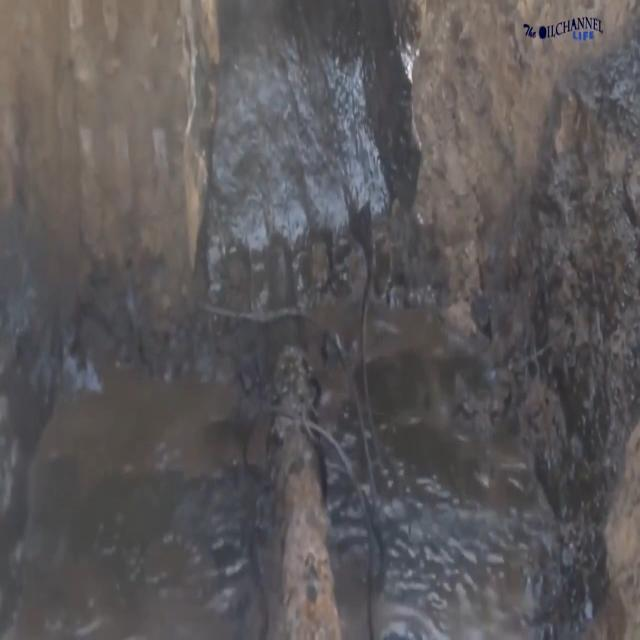spillage: (18, 365, 543, 640), (234, 52, 366, 200)
